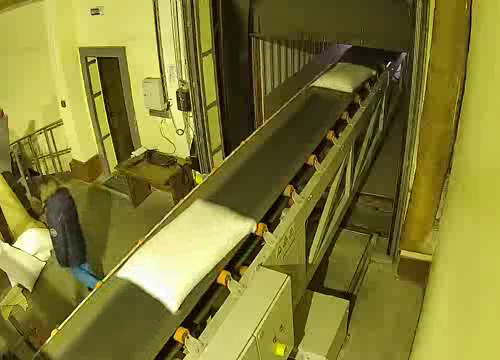bag: (102, 194, 265, 314), (309, 58, 378, 93)
